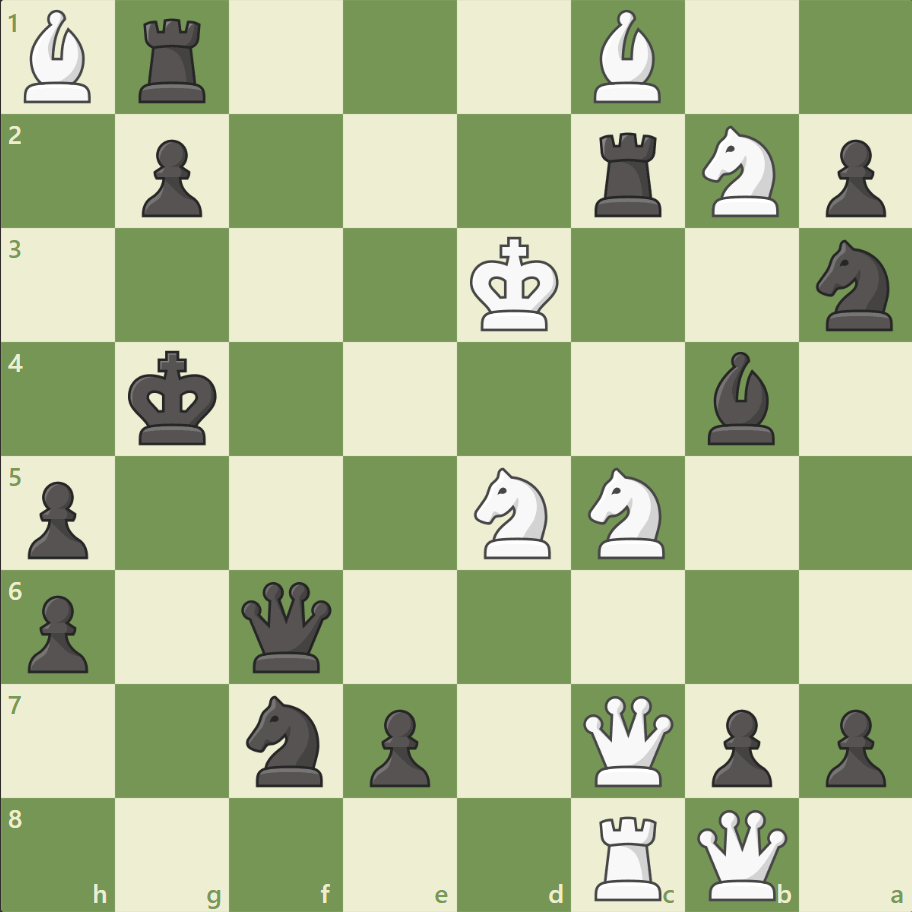B: (585, 6, 669, 109), (17, 6, 101, 109)
K: (465, 231, 565, 339)
N: (579, 461, 676, 564), (465, 461, 562, 564), (692, 121, 789, 223)
Q: (691, 804, 790, 903), (578, 690, 677, 789)
R: (587, 806, 670, 904)
b: (698, 347, 782, 449)
k: (124, 344, 224, 452)
n: (238, 688, 335, 791), (806, 234, 903, 337)
p: (701, 700, 776, 791), (20, 586, 95, 677), (20, 473, 95, 564), (133, 132, 208, 223), (815, 700, 889, 791), (361, 700, 435, 791), (815, 132, 889, 223)
q: (237, 576, 336, 676)
r: (587, 125, 670, 222), (133, 12, 215, 109)
